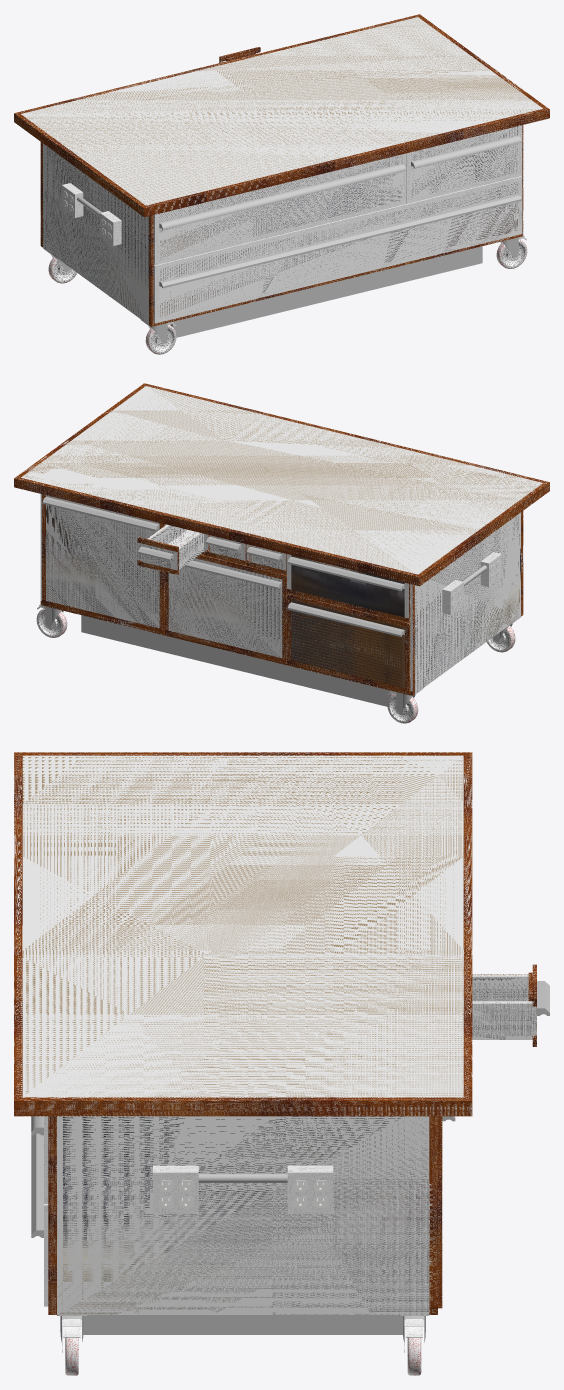
The picture shows the model from 3 angles, top to bottom: view 1: azimuth 30°, elevation 25°; view 2: azimuth 150°, elevation 25°; view 3: azimuth 270°, elevation 25°; orthographic projection. The views are drawn at different scales.
Parts seen in each view (by area): view 1: mesh2_mesh2-geometry, mesh74_mesh74-geometry, mesh81_mesh81-geometry, mesh18_mesh18-geometry, mesh8_mesh8-geometry, mesh3_mesh3-geometry, mesh66_mesh66-geometry, mesh77_mesh77-geometry, mesh76_mesh76-geometry, mesh21_mesh21-geometry, mesh75_mesh75-geometry, mesh4_mesh4-geometry (+11 smaller); view 2: mesh2_mesh2-geometry, mesh51_mesh51-geometry, mesh81_mesh81-geometry, mesh32_mesh32-geometry, mesh56_mesh56-geometry, mesh8_mesh8-geometry, mesh1_mesh1-geometry, mesh42_mesh42-geometry, mesh44_mesh44-geometry, mesh35_mesh35-geometry, mesh4_mesh4-geometry, mesh101_mesh101-geometry (+15 smaller); view 3: mesh2_mesh2-geometry, mesh85_mesh85-geometry, mesh5_mesh5-geometry, mesh7_mesh7-geometry, mesh126_mesh126-geometry, mesh1_mesh1-geometry, mesh3_mesh3-geometry, mesh120_mesh120-geometry, mesh4_mesh4-geometry, mesh123_mesh123-geometry, mesh108_mesh108-geometry, mesh121_mesh121-geometry (+5 smaller).
Part boxes in pixels (box(x1,y1,x2,y2)): mesh2_mesh2-geometry: box(21, 17, 542, 205); mesh74_mesh74-geometry: box(159, 182, 518, 317); mesh81_mesh81-geometry: box(43, 143, 148, 324); mesh18_mesh18-geometry: box(159, 154, 402, 259); mesh8_mesh8-geometry: box(170, 246, 482, 337); mesh3_mesh3-geometry: box(144, 108, 549, 217); mesh66_mesh66-geometry: box(411, 126, 518, 198); mesh77_mesh77-geometry: box(159, 194, 521, 288); mesh76_mesh76-geometry: box(153, 176, 522, 270); mesh21_mesh21-geometry: box(159, 164, 405, 229); mesh75_mesh75-geometry: box(153, 229, 522, 323); mesh4_mesh4-geometry: box(14, 113, 145, 216); mesh2_mesh2-geometry: box(21, 386, 542, 574); mesh51_mesh51-geometry: box(46, 495, 159, 628); mesh81_mesh81-geometry: box(415, 512, 520, 693); mesh32_mesh32-geometry: box(168, 558, 282, 658); mesh56_mesh56-geometry: box(291, 599, 404, 687); mesh8_mesh8-geometry: box(81, 615, 393, 706); mesh1_mesh1-geometry: box(14, 477, 419, 586); mesh42_mesh42-geometry: box(42, 497, 404, 636); mesh44_mesh44-geometry: box(291, 555, 404, 617); mesh35_mesh35-geometry: box(164, 589, 410, 693); mesh4_mesh4-geometry: box(418, 482, 549, 585); mesh101_mesh101-geometry: box(36, 608, 514, 723); mesh2_mesh2-geometry: box(22, 755, 463, 1097); mesh85_mesh85-geometry: box(57, 1116, 429, 1314); mesh5_mesh5-geometry: box(14, 1097, 472, 1116); mesh7_mesh7-geometry: box(95, 1315, 390, 1334); mesh126_mesh126-geometry: box(153, 1165, 333, 1214); mesh1_mesh1-geometry: box(463, 752, 472, 1100); mesh3_mesh3-geometry: box(14, 752, 22, 1100); mesh120_mesh120-geometry: box(472, 1001, 532, 1039); mesh4_mesh4-geometry: box(15, 752, 471, 755); mesh123_mesh123-geometry: box(48, 1116, 56, 1314); mesh108_mesh108-geometry: box(429, 1116, 437, 1306); mesh121_mesh121-geometry: box(472, 974, 528, 1001).
Size of the model in its own units: 0.7973 by 0.3101 by 0.5179.
